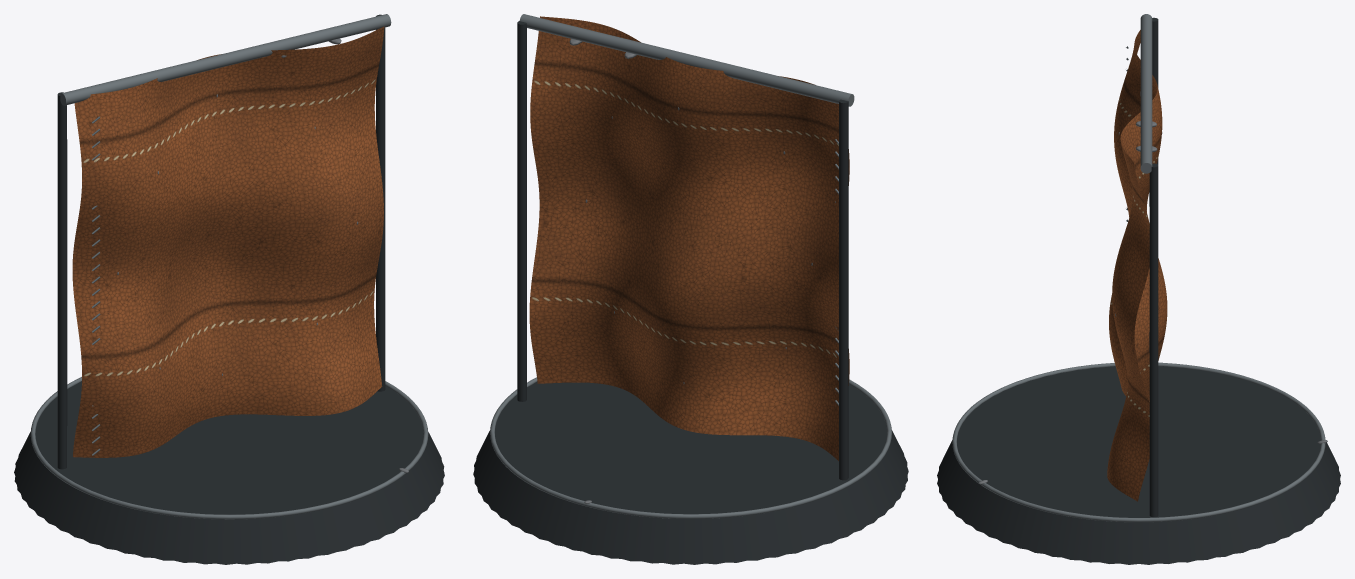
3 renders of one model, left to right at view 1: azimuth 30°, elevation 25°; view 2: azimuth 150°, elevation 25°; view 3: azimuth 270°, elevation 25°, orthographic. The views are drawn at different scales.
Parts seen in each view (by area): view 1: surface specimen, neutral specimen stand, specimen edge; view 2: surface specimen, neutral specimen stand, specimen edge; view 3: neutral specimen stand, surface specimen, specimen edge.
Boxes of the visible parts, x1,y1,x2,y2 form: surface specimen: (72,26,384,457); neutral specimen stand: (14,14,444,564); specimen edge: (30,14,428,519); surface specimen: (529,16,849,460); neutral specimen stand: (473,21,908,564); specimen edge: (490,14,891,518); neutral specimen stand: (937,17,1340,564); surface specimen: (1107,30,1167,501); specimen edge: (952,14,1325,522).
Size of the model in its own units: 0.539 by 0.576 by 0.539.
Materials: 4 (1 with a texture image).
